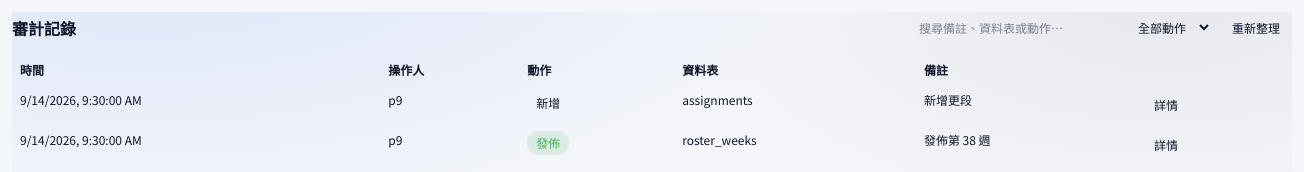
Test: Audit (Task 10 contract) › text search filters client-side across notes / table / action
This screenshot has width=1304, height=172.
Expected: the text "assignments" is shown, [674,85,916,125]
Type "發佈" into the field with placeholder "搜尋備註、資料表或動作…".
click(1014, 28); type("發佈")  # box [910,12,1117,42]
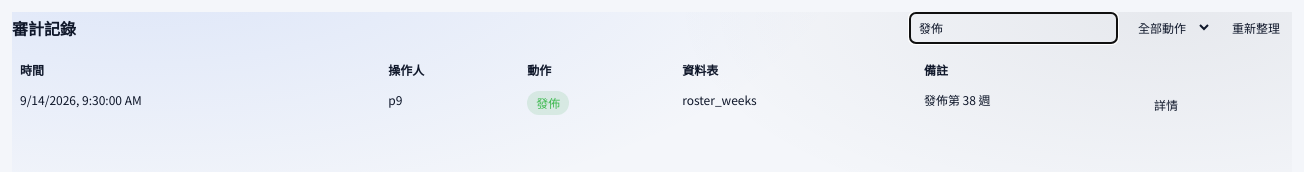
Expected: the text "roster_weeks" is shown, [674,85,916,125]
Expected: the text "assignments" is gone
Clear the field with placeholder "搜尋備註、資料表或動作…" at (1014, 28), box [910,12,1117,42]
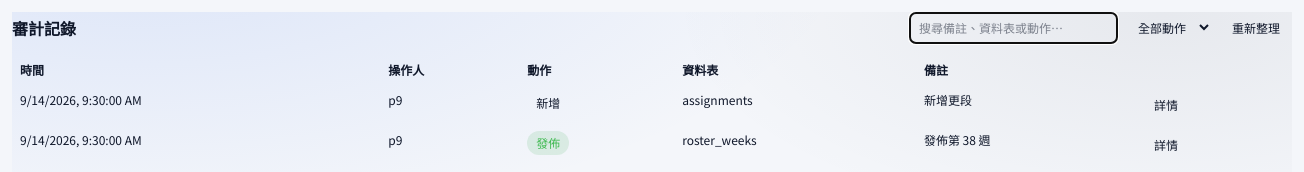
Expected: the text "assignments" is shown, [674,85,916,125]
